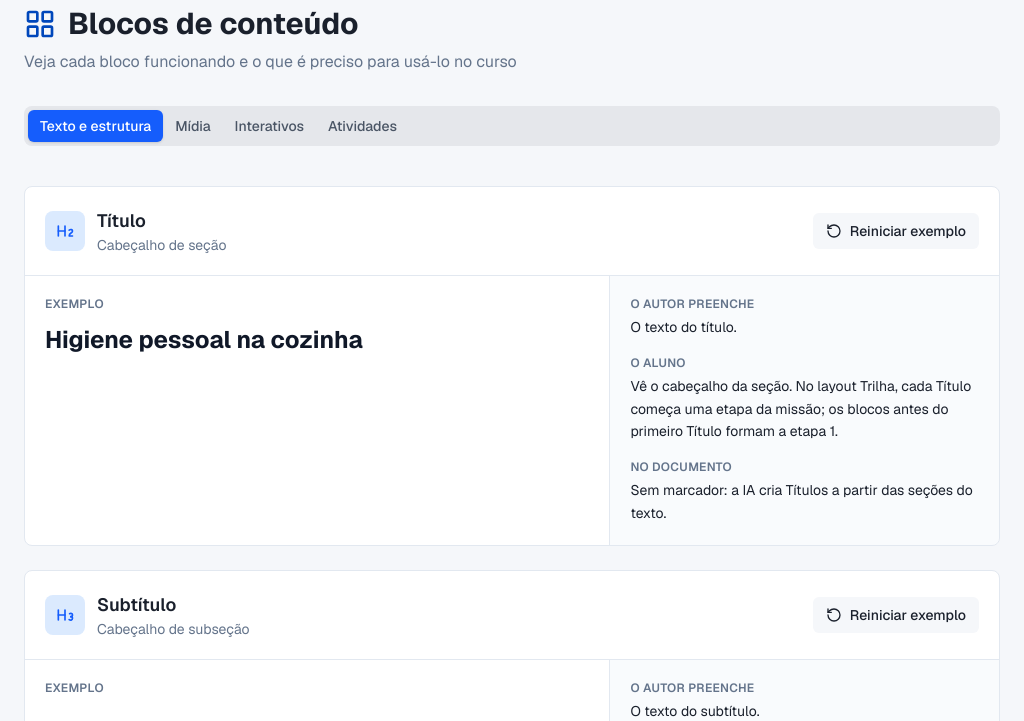
Scenario: blocks showcase page › lists the Interativos entries with their guide
The width and height of the screenshot is (1024, 721).
Step 1. Click the tab "Interativos" → x=269, y=126, box [223, 110, 316, 142]
(page scrolled)
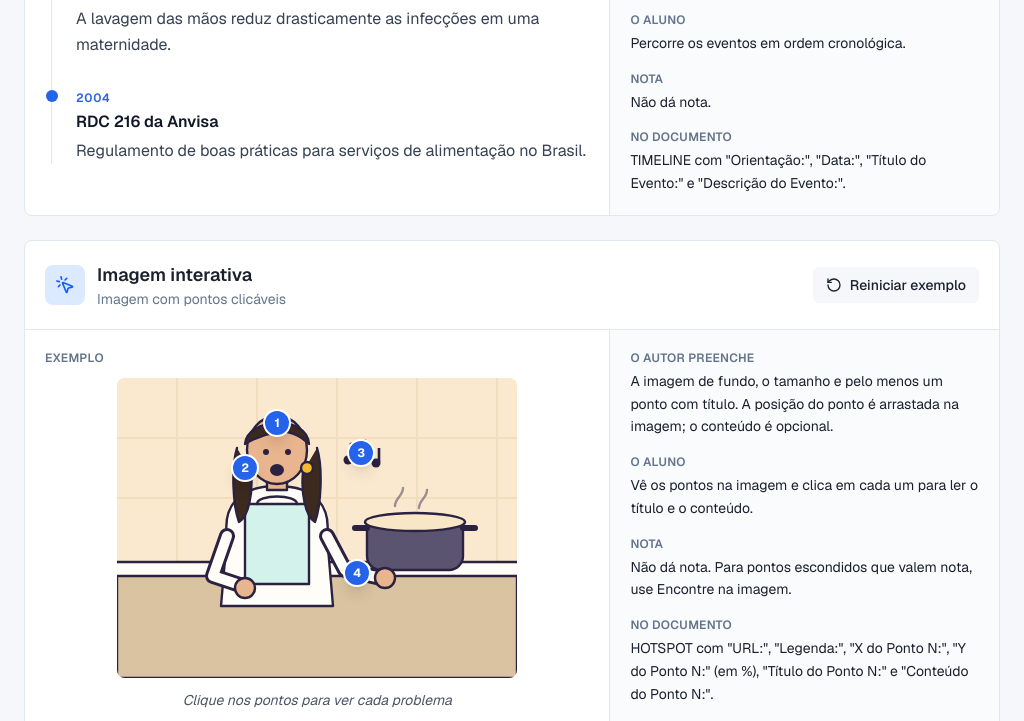
expect the heading "Imagem interativa" is shown: met, box [97, 263, 252, 286]
expect the text "A imagem de fundo, o tamanho e pelo menos um ponto com título. A posição do ponto é arrastada na imagem; o conteúdo é op" is shown: met, box [630, 372, 959, 435]
